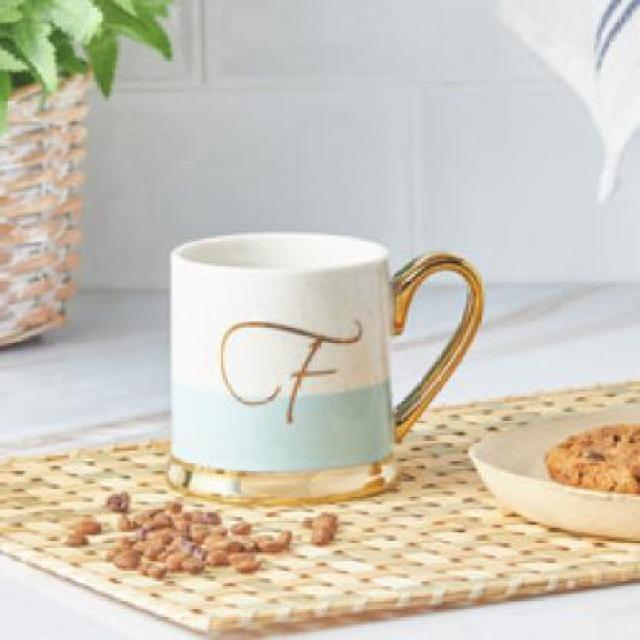taza: (170, 232, 486, 503)
